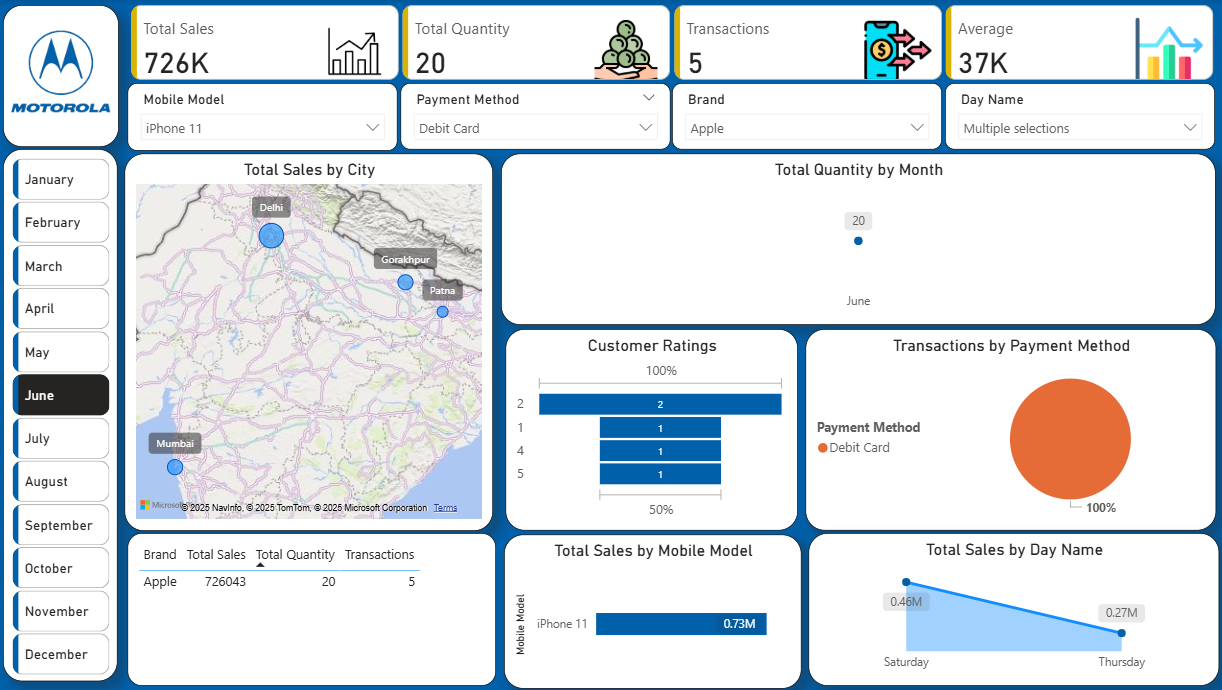

This screenshot's page, from the dashboard's own definition file:
{"tool":"powerbi","page":{"name":"Page 1","canvas":[1280,720],"ordinal":0},"visuals":[{"type":"shape","box":[5.5,6.9,120.8,148.2],"z":0},{"type":"image","box":[9.6,16.5,113.9,116.6],"z":1000},{"type":"shape","box":[6.9,156.4,119.4,554.4],"z":2000},{"type":"advancedSlicerVisual","fields":{"Values":["Sales_Data.Date.Variation.Date Hierarchy.Month"]},"box":[11,160.5,111.1,548.9],"z":3000},{"type":"cardVisual","fields":{"Data":["Sales_Data.Total Sales","Sales_Data.Total Quantity","Sales_Data.Transactions","Sales_Data.Average"]},"box":[134,5.6,1140.1,83.7],"z":4000},{"type":"map","fields":{"Category":["Sales_Data.City"],"Size":["Sales_Data.Total Sales"]},"box":[132.9,160.8,384.1,393.1],"z":5000},{"type":"lineChart","fields":{"Y":["Sales_Data.Total Quantity"],"Category":["Sales_Data.Date.Variation.Date Hierarchy.Month","Sales_Data.Date.Variation.Date Hierarchy.Day"]},"box":[525.9,160.8,744.8,178.7],"z":6000},{"type":"clusteredBarChart","fields":{"Category":["Sales_Data.Mobile Model"],"Y":["Sales_Data.Total Sales"]},"box":[528.3,558.5,310.1,160.5],"z":7000},{"type":"pieChart","fields":{"Category":["Sales_Data.Payment Method"],"Y":["Sales_Data.Transactions"]},"box":[842.5,344.4,428.1,209.9],"z":8000},{"type":"funnel","title":"Customer Ratings","fields":{"Category":["Sales_Data.Customer Ratings"],"Y":["Sum(Sales_Data.Customer Ratings)"]},"box":[529.7,344.4,304.6,209.9],"z":9000},{"type":"areaChart","fields":{"Category":["Sales_Data.Day Name"],"Y":["Sales_Data.Total Sales"]},"box":[845.3,557.1,428.1,159.2],"z":10000},{"type":"tableEx","fields":{"Values":["Sales_Data.Brand","Sales_Data.Total Sales","Sales_Data.Total Quantity","Sales_Data.Transactions"]},"box":[135.8,557.1,384.2,159.2],"z":11000},{"type":"slicer","fields":{"Values":["Sales_Data.Mobile Model"]},"box":[136.2,87.1,281.4,70.3],"z":12000},{"type":"slicer","fields":{"Values":["Sales_Data.Payment Method"]},"box":[421,87.1,281.4,69.2],"z":13000},{"type":"slicer","fields":{"Values":["Sales_Data.Brand"]},"box":[703.5,87.1,281.4,69.2],"z":14000},{"type":"slicer","fields":{"Values":["Sales_Data.Day Name"]},"box":[988.2,87.1,281.4,69.2],"z":15000}]}

Visuals, with their boxes in screenshot pixels (x1, y1, x2, y2), scaled from the page's 1280x720 canvas onto the 1222x690 screenshot:
shape: region(5, 7, 121, 149)
image: region(9, 16, 118, 128)
shape: region(7, 150, 121, 681)
advancedSlicerVisual - Sales_Data.Date.Variation.Date Hierarchy.Month: region(11, 154, 117, 680)
cardVisual - Sales_Data.Total Sales x Sales_Data.Total Quantity: region(128, 5, 1216, 86)
map - Sales_Data.City x Sales_Data.Total Sales: region(127, 154, 494, 531)
lineChart - Sales_Data.Total Quantity x Sales_Data.Date.Variation.Date Hierarchy.Month: region(502, 154, 1213, 325)
clusteredBarChart - Sales_Data.Mobile Model x Sales_Data.Total Sales: region(504, 535, 800, 689)
pieChart - Sales_Data.Payment Method x Sales_Data.Transactions: region(804, 330, 1213, 531)
"Customer Ratings" funnel: region(506, 330, 796, 531)
areaChart - Sales_Data.Day Name x Sales_Data.Total Sales: region(807, 534, 1216, 686)
tableEx - Sales_Data.Brand x Sales_Data.Total Sales: region(130, 534, 496, 686)
slicer - Sales_Data.Mobile Model: region(130, 83, 399, 151)
slicer - Sales_Data.Payment Method: region(402, 83, 671, 150)
slicer - Sales_Data.Brand: region(672, 83, 940, 150)
slicer - Sales_Data.Day Name: region(943, 83, 1212, 150)
